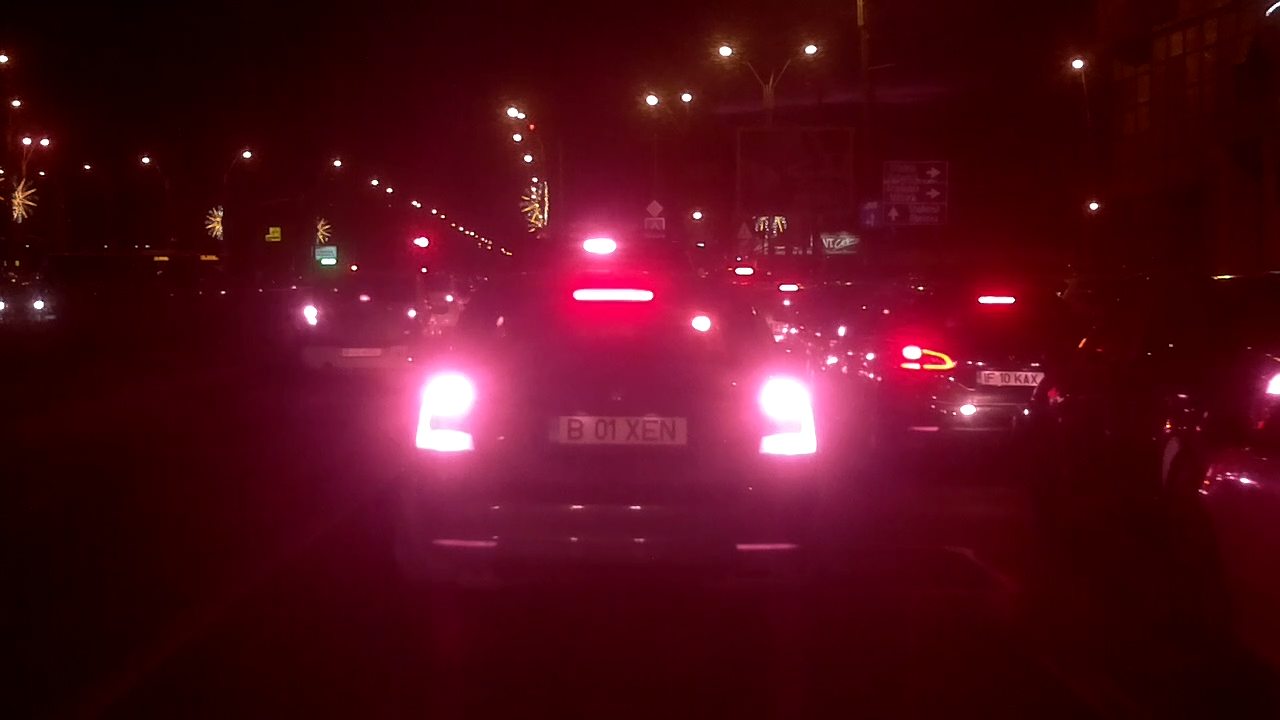license-plate: (540, 409, 693, 449), (973, 368, 1047, 388)
